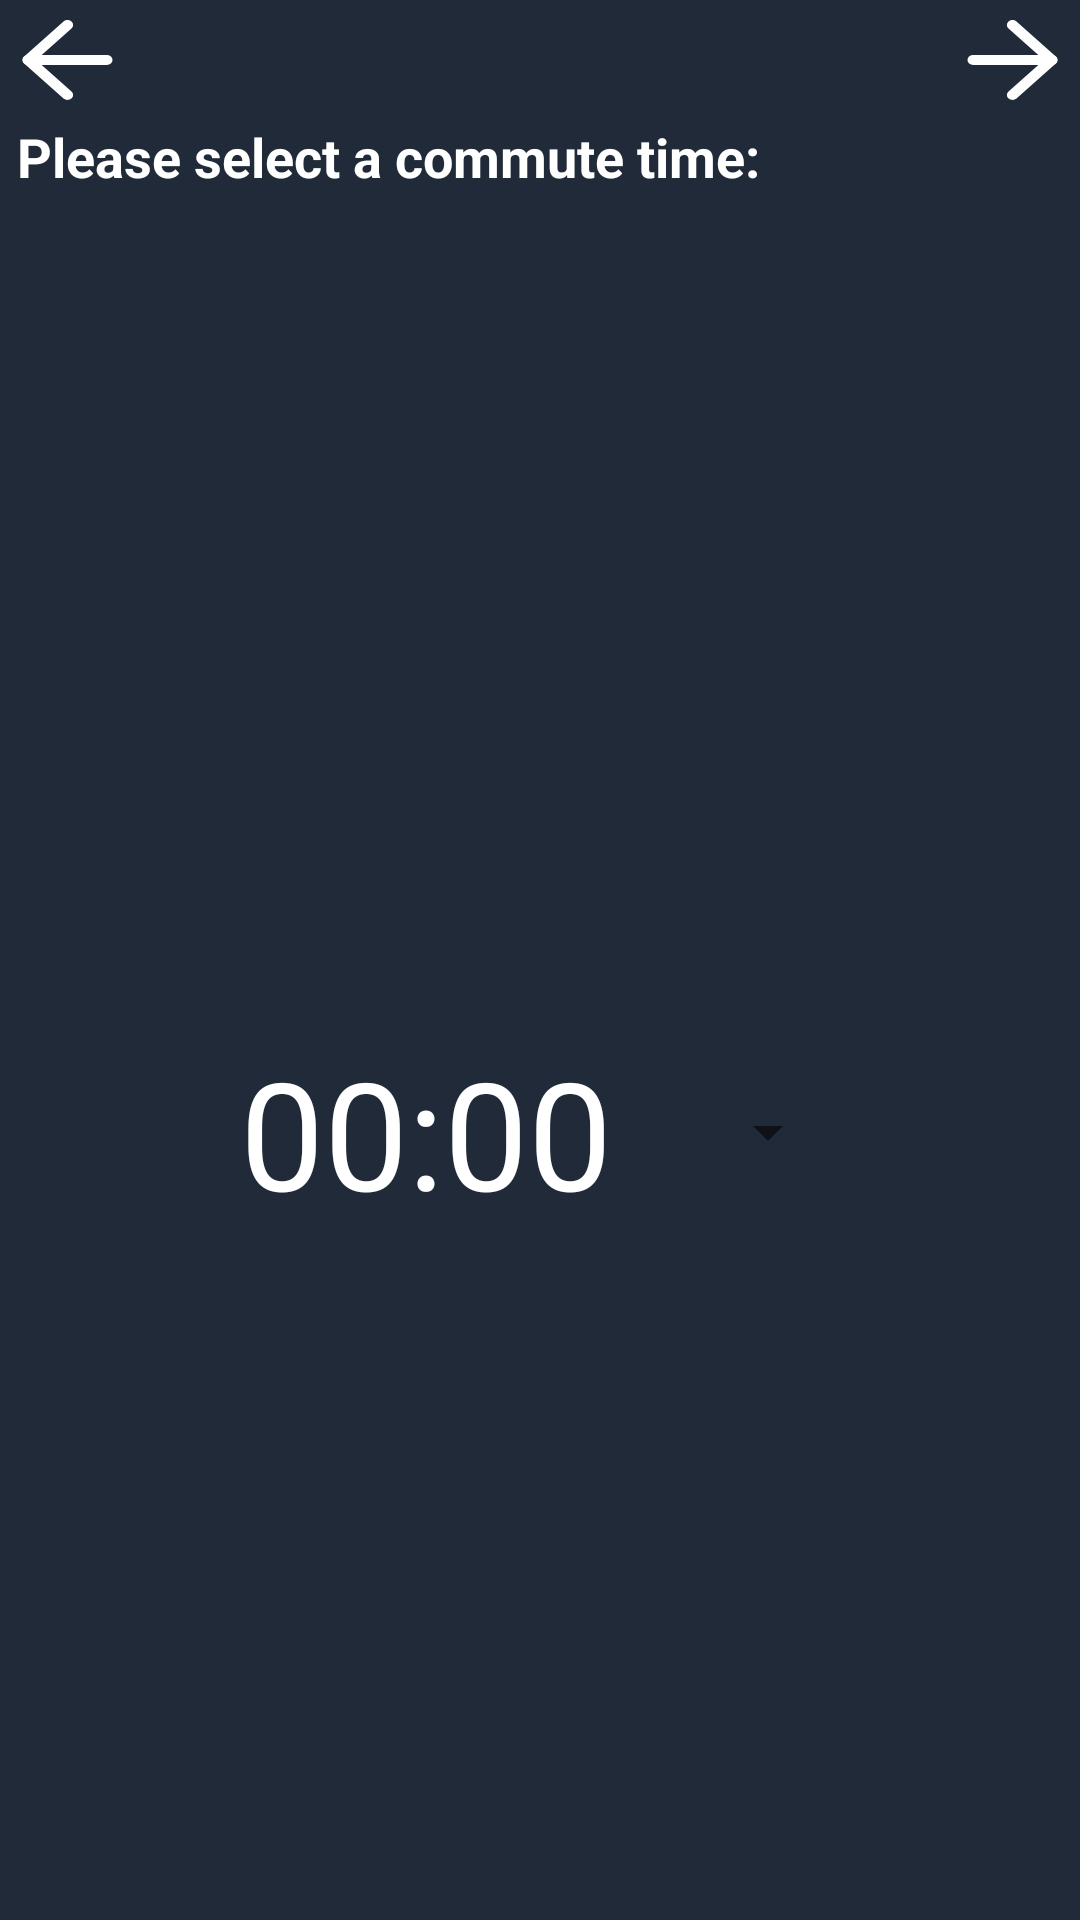

Point at icon controls on the screen. Image size 1080x1920, points as (x,y).
arrow left: (67,60)
arrow right: (1012,60)
